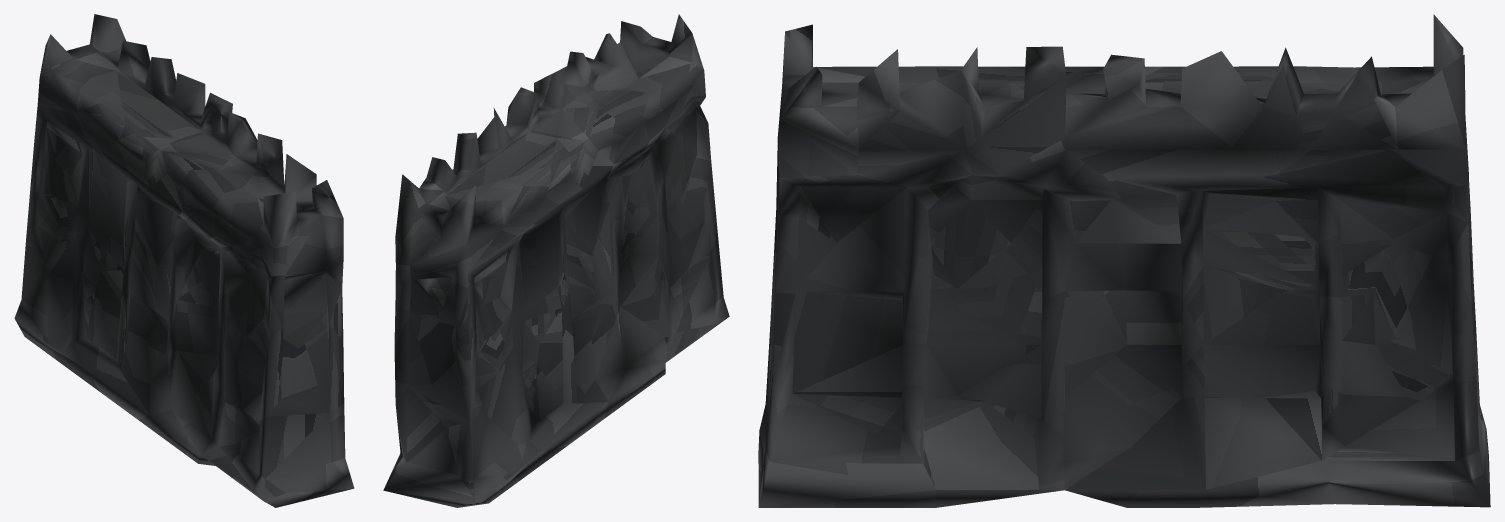
The model's file is castle_wall_iron_lo.glb.
3 renders of one model, left to right at view 1: azimuth 30°, elevation 25°; view 2: azimuth 150°, elevation 25°; view 3: azimuth 270°, elevation 25°, orthographic. The views are drawn at different scales.
Parts seen in each view (by area): view 1: tripo_node_2973a393-3c60-4374-a208-72ececc9e4d1; view 2: tripo_node_2973a393-3c60-4374-a208-72ececc9e4d1; view 3: tripo_node_2973a393-3c60-4374-a208-72ececc9e4d1.
Part boxes in pixels (box(x1,y1,x2,y2)): tripo_node_2973a393-3c60-4374-a208-72ececc9e4d1: box(14, 14, 354, 507); tripo_node_2973a393-3c60-4374-a208-72ececc9e4d1: box(383, 14, 729, 507); tripo_node_2973a393-3c60-4374-a208-72ececc9e4d1: box(758, 14, 1490, 507).
Bounding box in the file's own units: 0.2058 × 0.6546 × 0.9735.
1 material, 1 textured.
